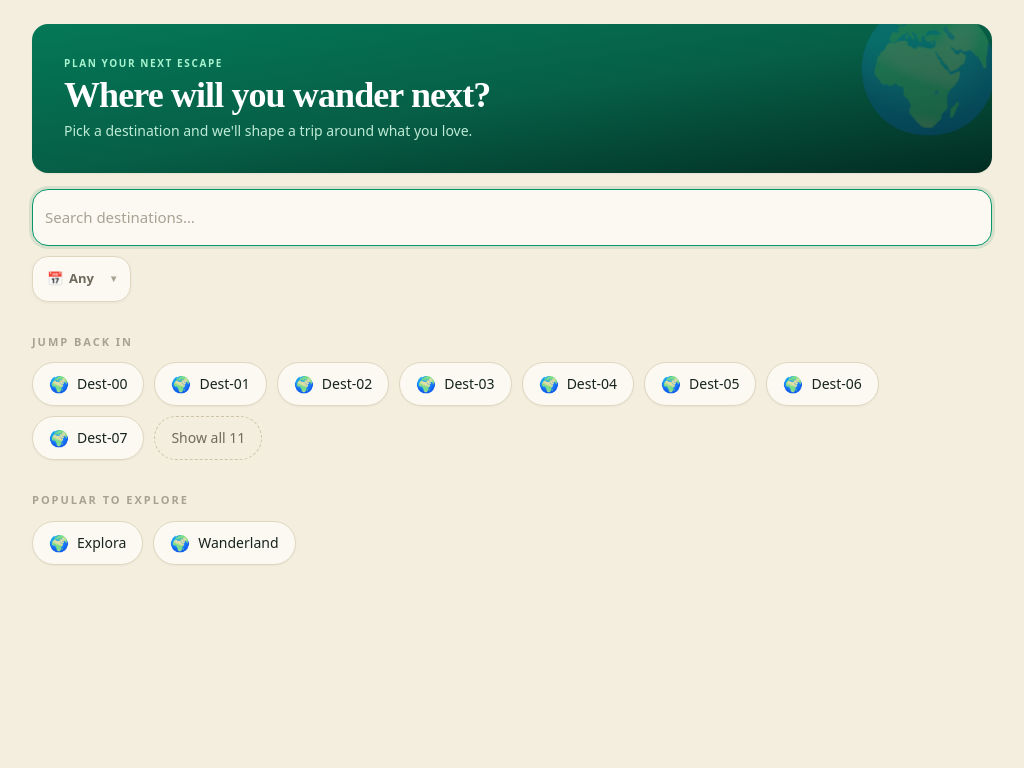
Test: DestinationPicker › caps the list at 8, reveals all, then collapses back
This screenshot has width=1024, height=768.
Check: the text "Dest-00" is shown, box [77,374,127,394]
Check: the text "Dest-08" is not shown
Click the button "Show all 11": (208, 438) [154,416,262,460]
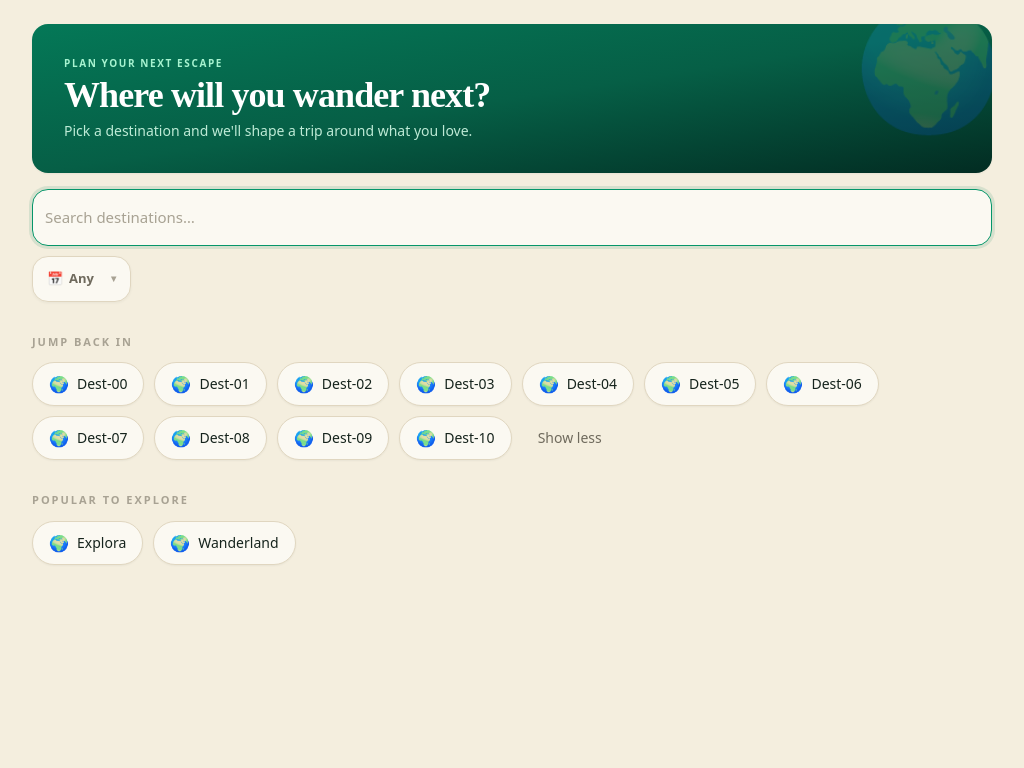
Check: the text "Dest-10" is shown, box [444,428,495,448]
Click the button "Show less": (570, 438) [522,416,618,460]
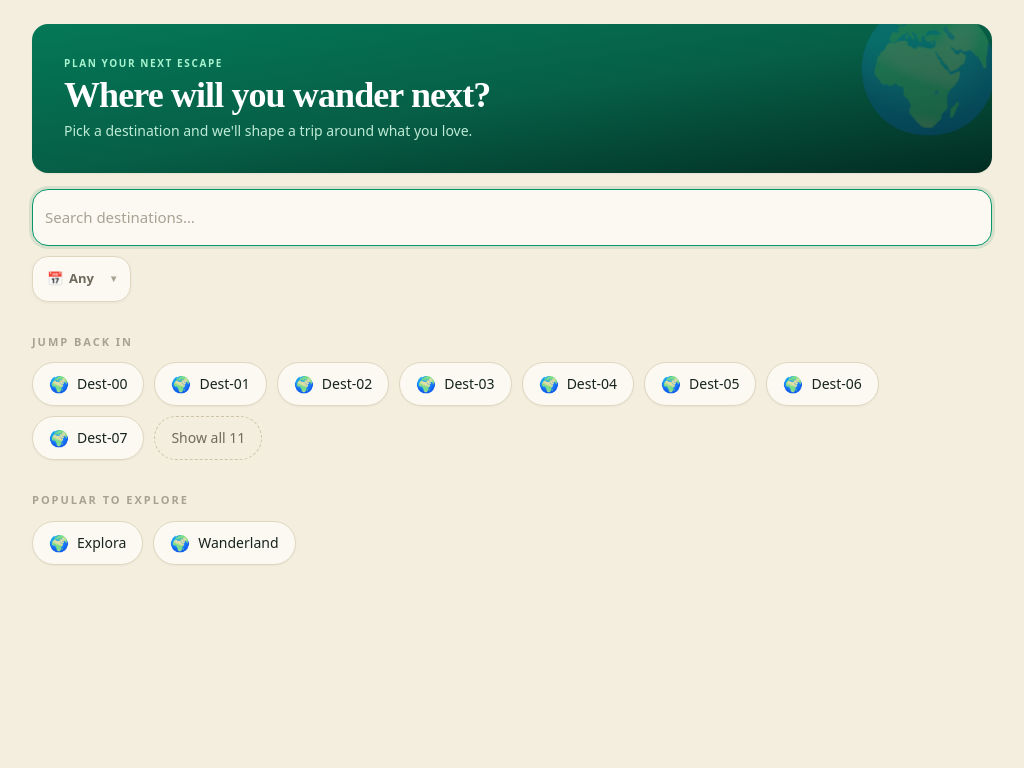
Check: the button "Dest-08" is gone
